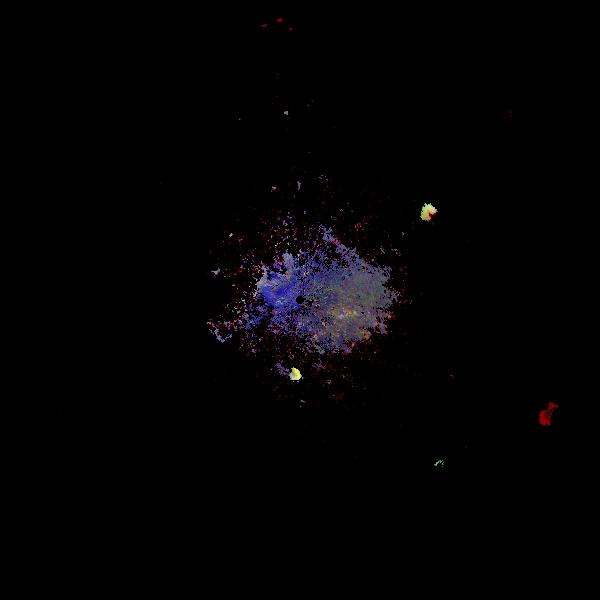roost: (538, 399, 577, 438), (429, 451, 456, 478), (417, 202, 441, 226), (288, 367, 303, 382), (269, 185, 278, 194)
